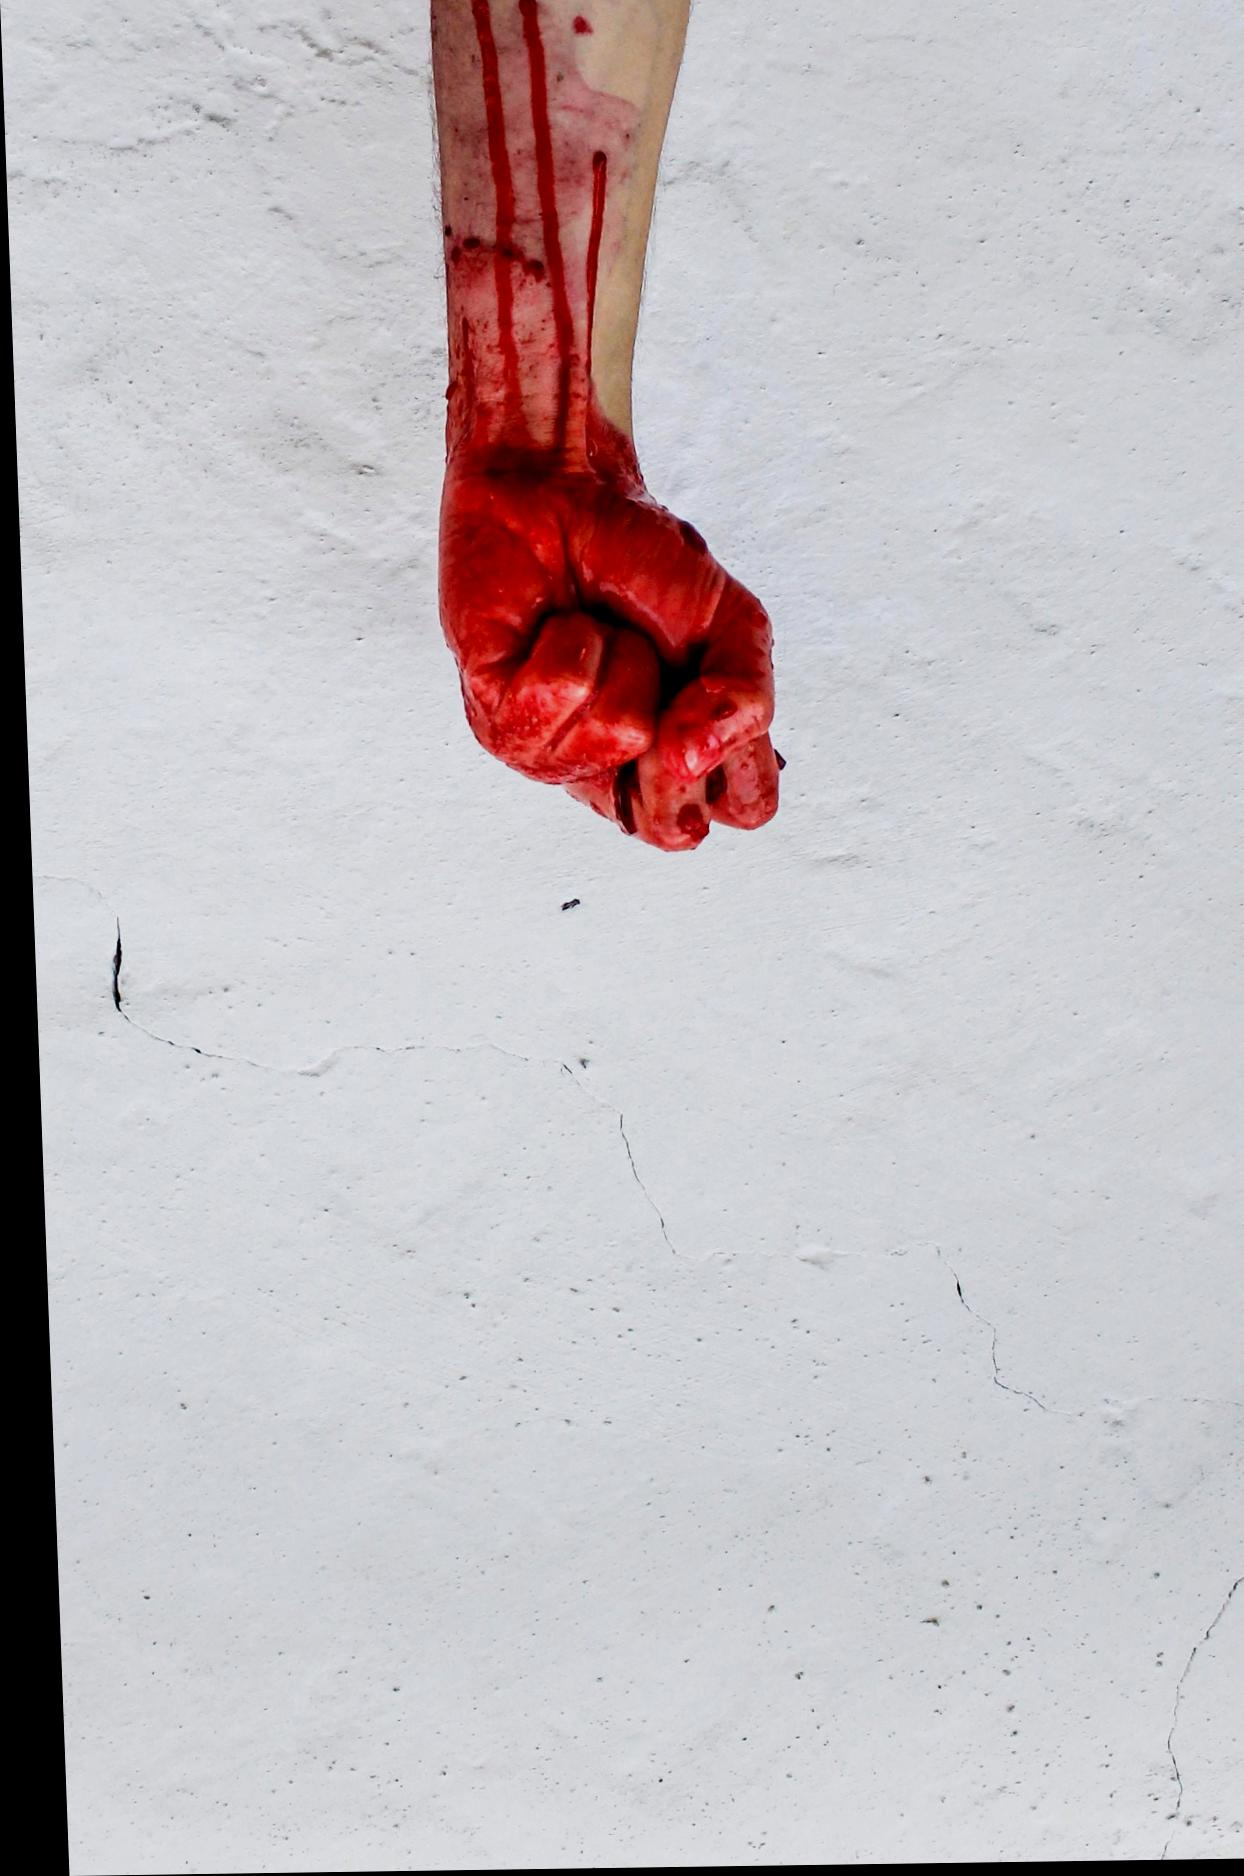Fire: (432, 432, 772, 851), (430, 0, 626, 474)
